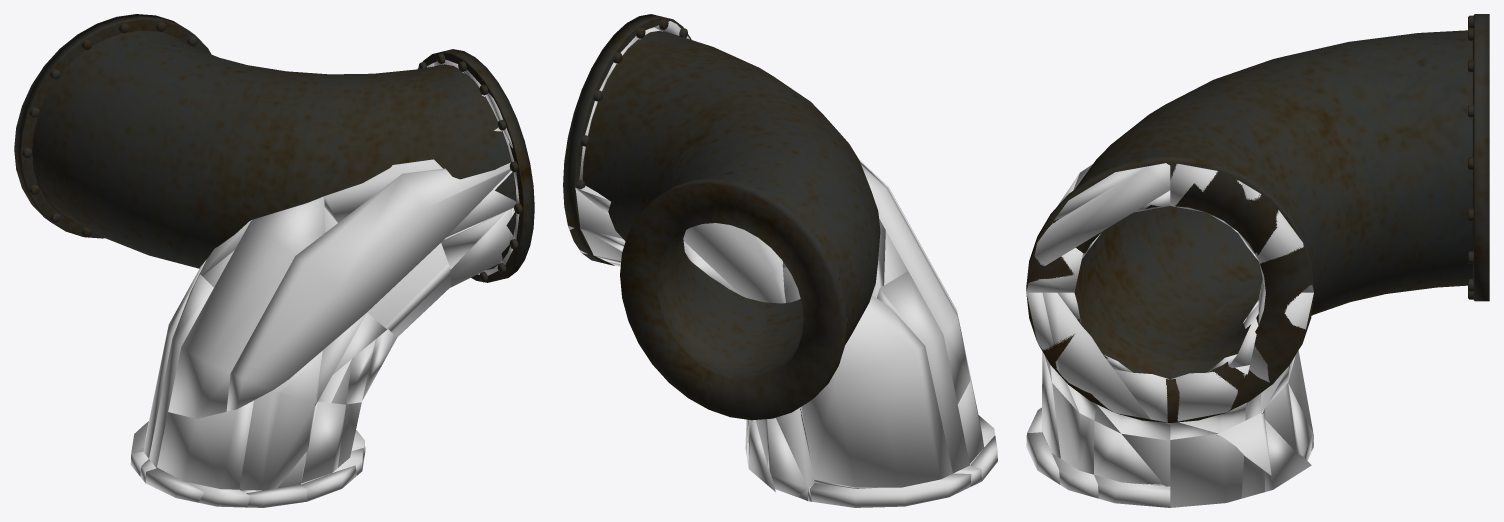
File: SM_Pipes_Large_Elbow.fbx
The picture shows the model from 3 angles, left to right: view 1: azimuth 30°, elevation 25°; view 2: azimuth 150°, elevation 25°; view 3: azimuth 270°, elevation 25°; orthographic projection. The views are drawn at different scales.
Visible parts, largest first — view 1: SM_Pipes_Large_Elbow, SM_Pipes_Large_Elbow_ConvexHulls; view 2: SM_Pipes_Large_Elbow, SM_Pipes_Large_Elbow_ConvexHulls; view 3: SM_Pipes_Large_Elbow, SM_Pipes_Large_Elbow_ConvexHulls.
Part boxes in pixels (x1=…): SM_Pipes_Large_Elbow: x1=14, y1=14, x2=534, y2=282; SM_Pipes_Large_Elbow_ConvexHulls: x1=130, y1=59, x2=519, y2=507; SM_Pipes_Large_Elbow: x1=563, y1=14, x2=880, y2=420; SM_Pipes_Large_Elbow_ConvexHulls: x1=568, y1=21, x2=997, y2=507; SM_Pipes_Large_Elbow: x1=1026, y1=14, x2=1489, y2=422; SM_Pipes_Large_Elbow_ConvexHulls: x1=1026, y1=163, x2=1313, y2=507.
Bounding box in the file's own units: 1.45 × 1.45 × 1.45.
